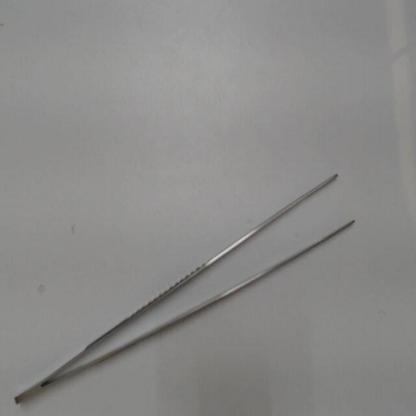DeBakey Dissector: (3, 166, 378, 412)
